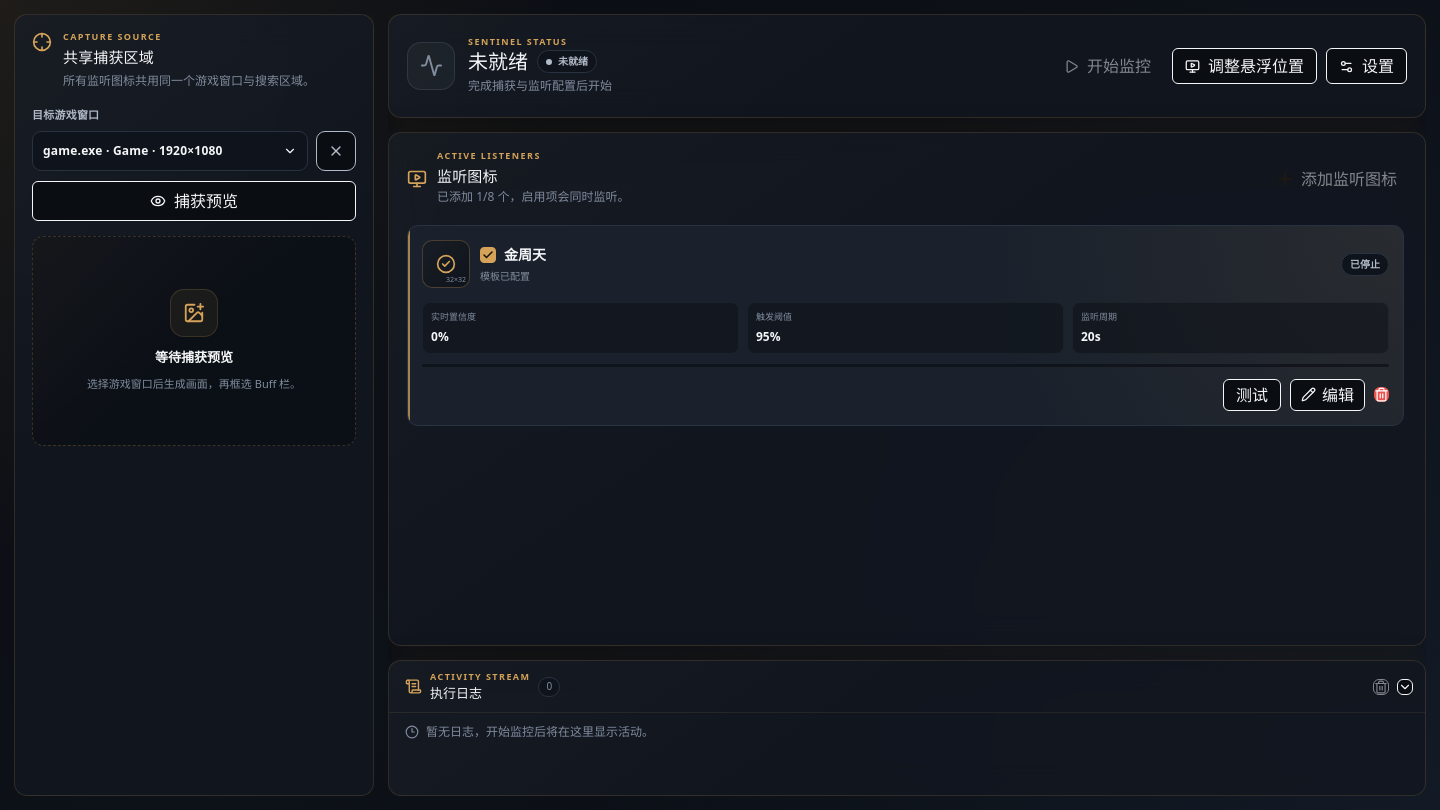
Test case: BuffAssistantPage › clears the selected target and preview without removing listener configuration
This screenshot has width=1440, height=810.
Click the button "捕获预览" at (194, 201), box [32,181,356,221]
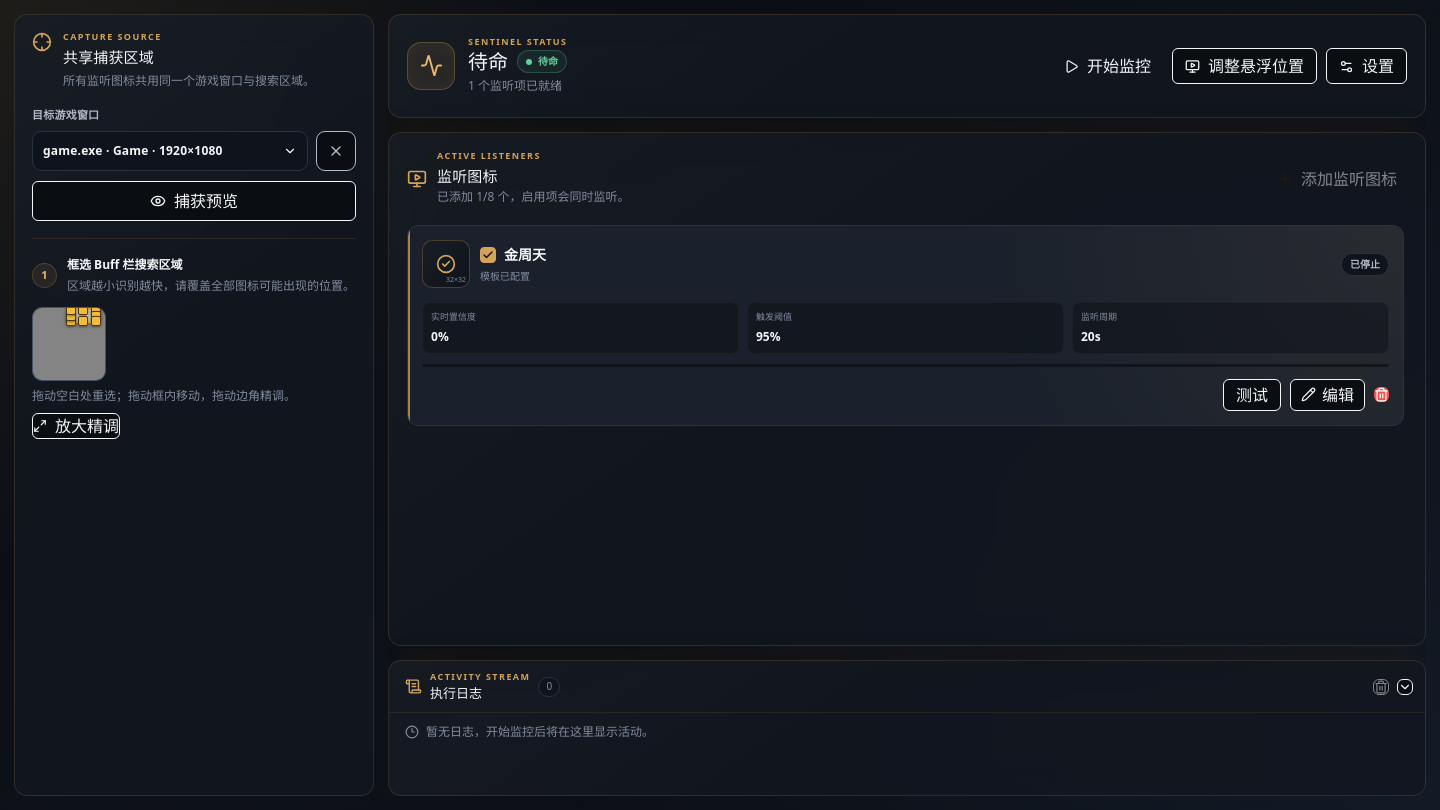
Click the button named "清空目标窗口" at (336, 151), box [316,131,356,171]
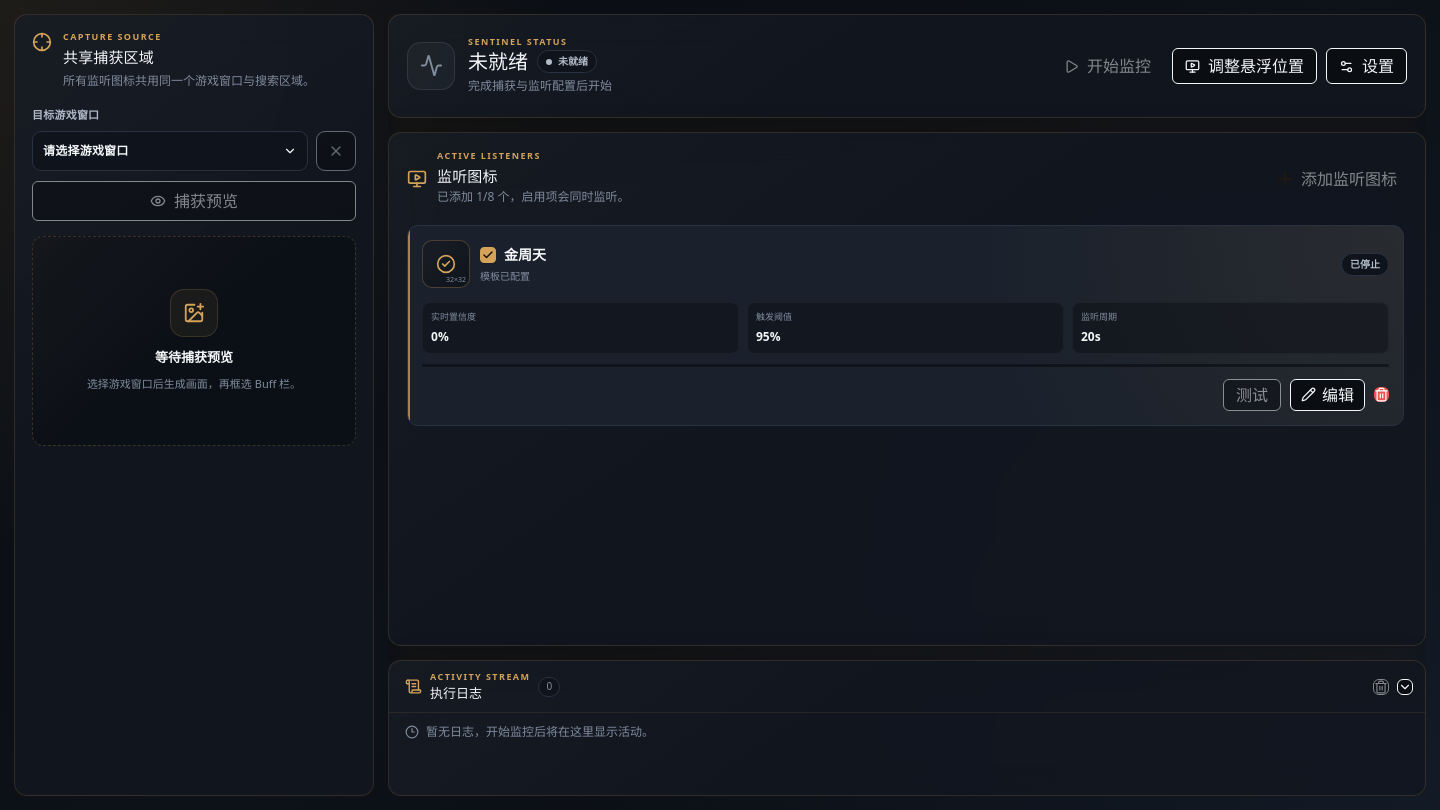
Expected: the text "金周天" is shown, [504,244,546,265]
Expected: the text "等待捕获预览" is shown, [155,348,233,368]
Expected: the dropdown named "目标游戏窗口" reads "请选择游戏窗口"
Click the dropdown named "目标游戏窗口" at (86, 150), box [32,131,308,171]
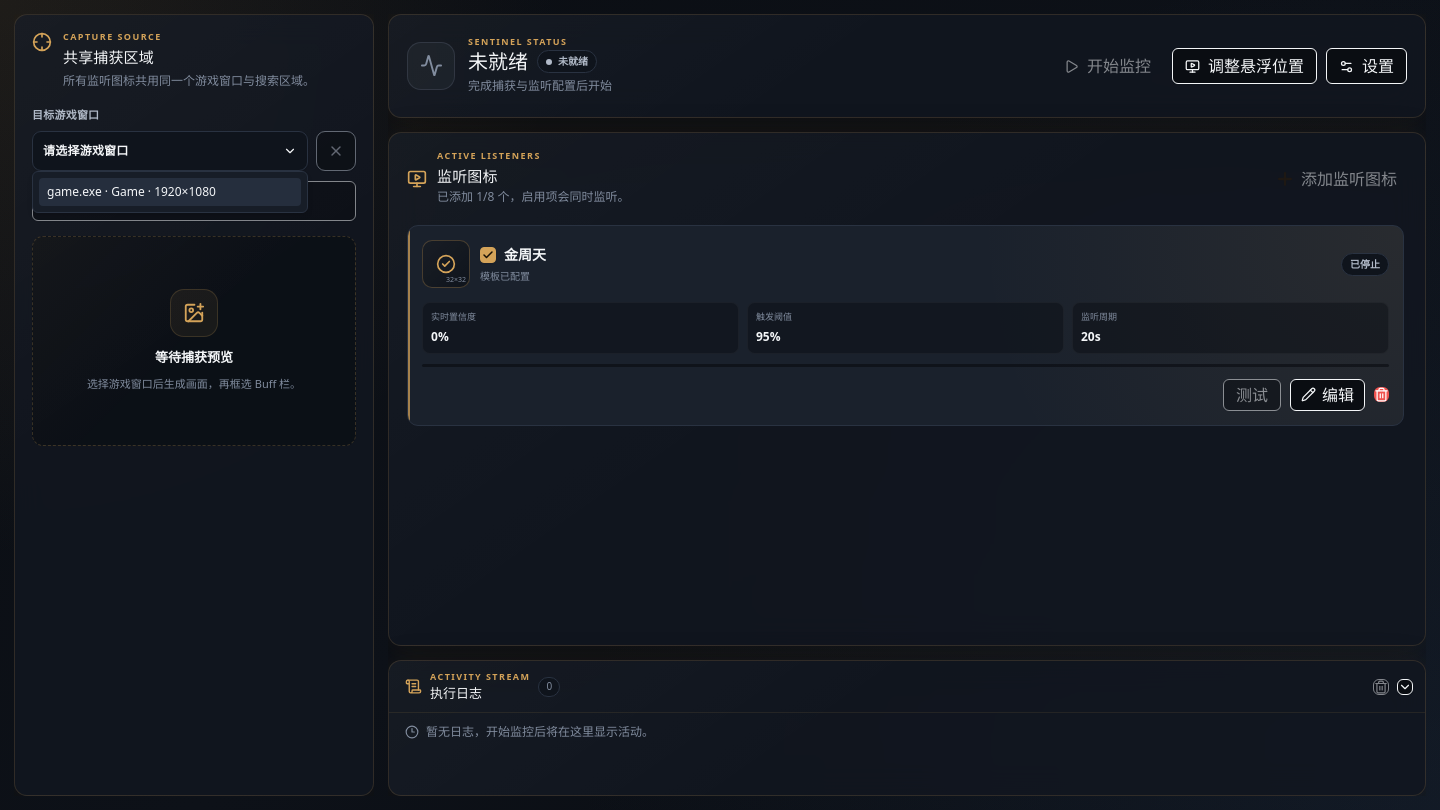
Expected: the option "game.exe · Game · 1920×1080" is shown, [39,178,301,206]
